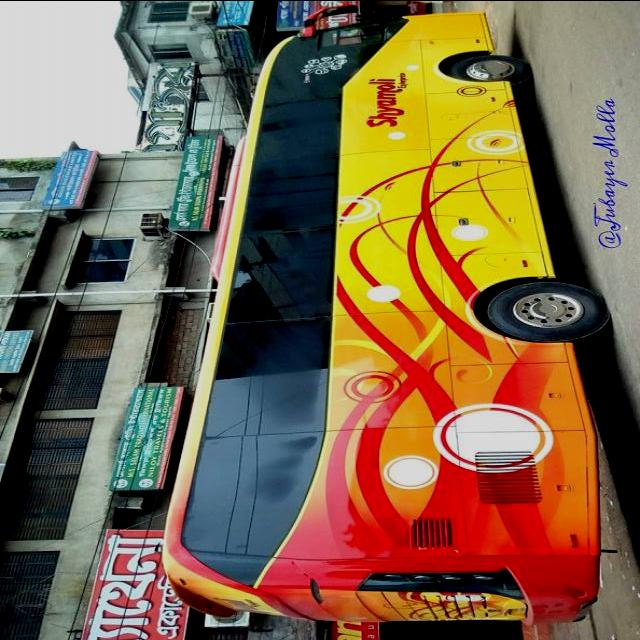bus: (158, 3, 616, 628)
